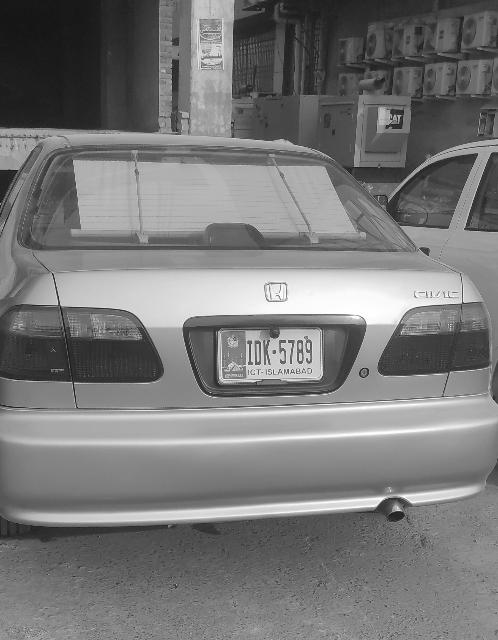Number: (247, 338, 315, 368)
